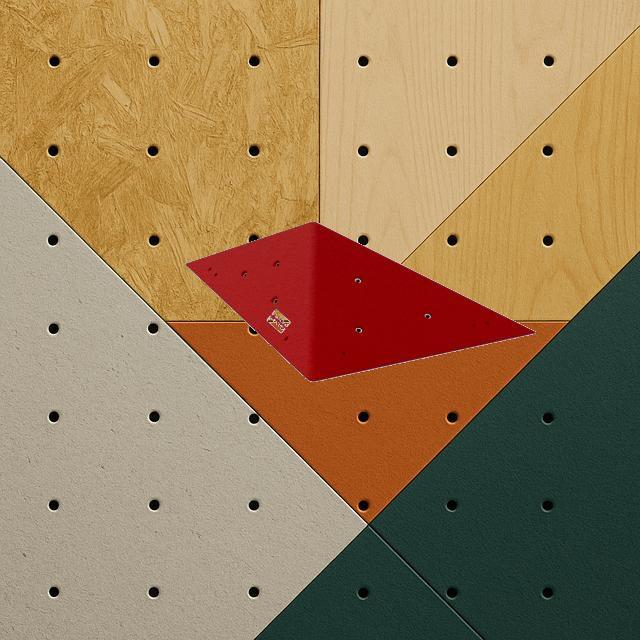Volume: (183, 220, 535, 382)
